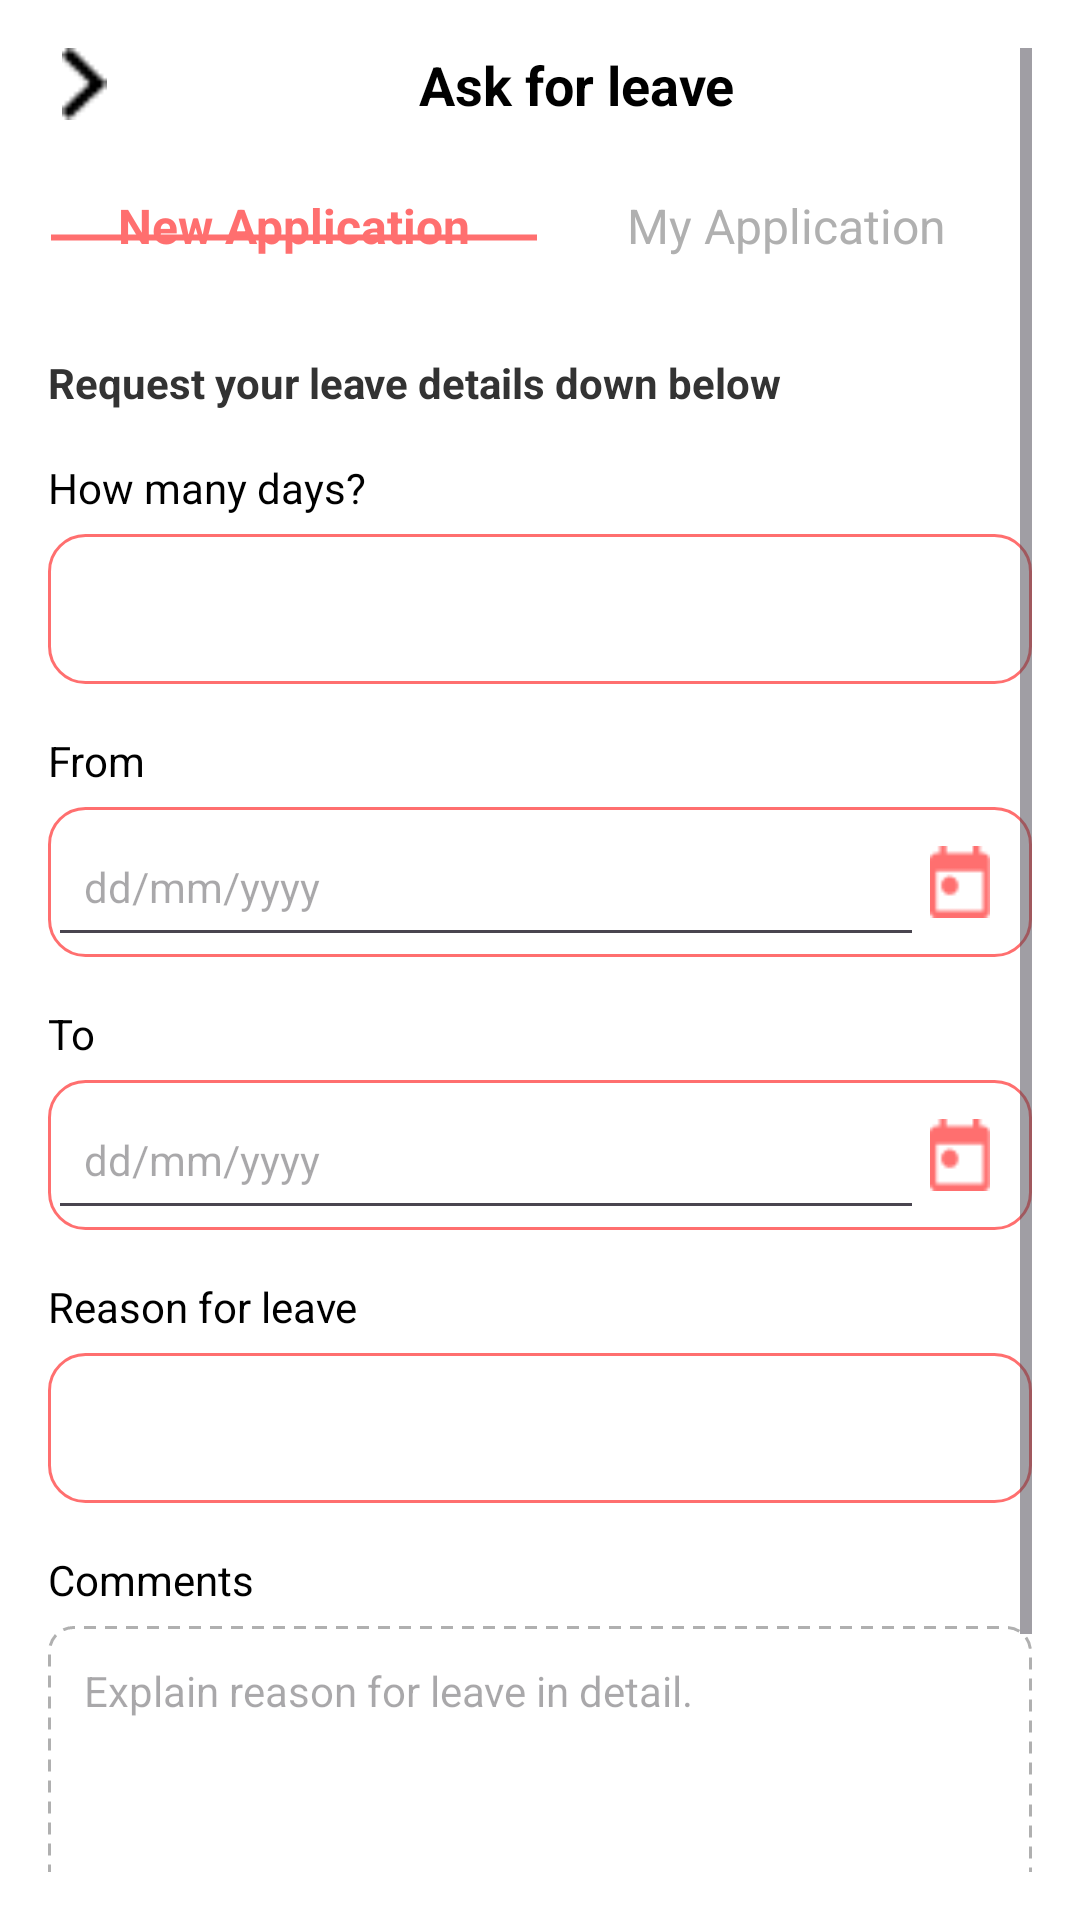

Icon click points for this 1080 x 1920 phone screenshot, format (x=x, y=y):
calender: (x=960, y=882), (x=960, y=1155)
